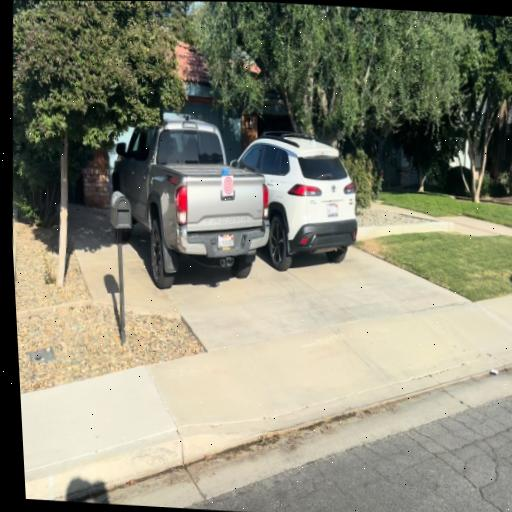bullseye: (224, 176, 234, 196)
